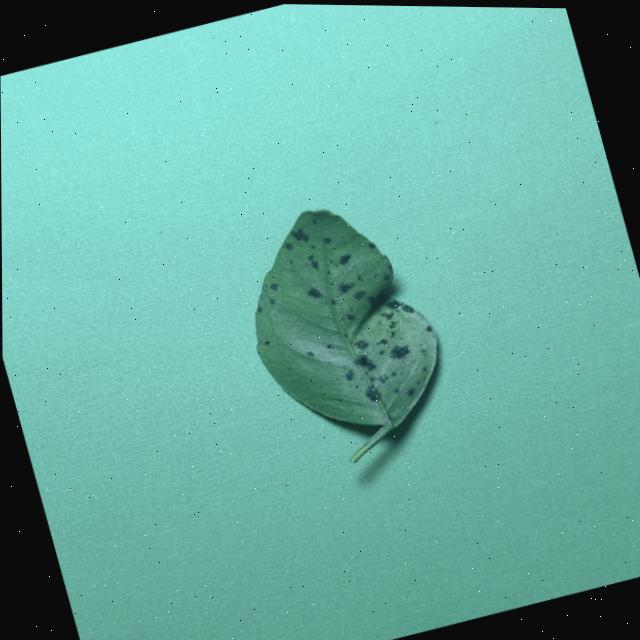sooty_mold: (254, 209, 435, 460)
